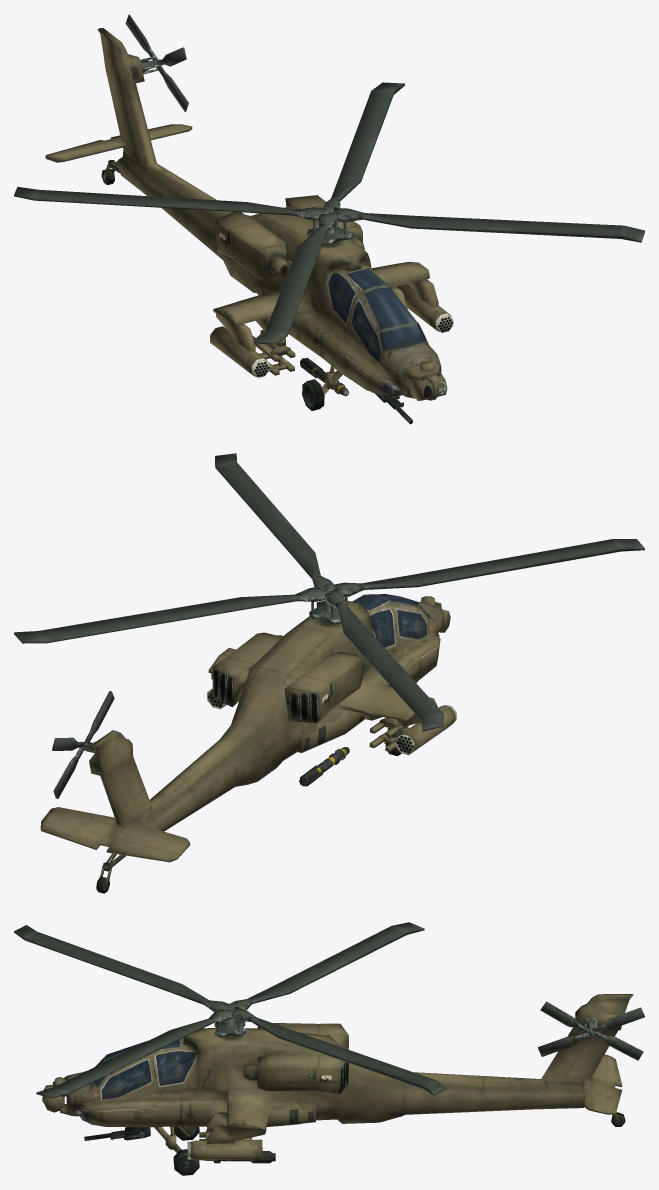
Rendered from gunship.glb.
The picture shows the model from 3 angles, top to bottom: view 1: azimuth 30°, elevation 25°; view 2: azimuth 150°, elevation 25°; view 3: azimuth 270°, elevation 25°; orthographic projection. The views are drawn at different scales.
Visible parts, largest first — view 1: Gunship, Rotor, Back_Rotor; view 2: Gunship, Rotor, Back_Rotor, Hellfire_Missile; view 3: Gunship, Rotor, Back_Rotor.
Part boxes in pixels (x1,y1,x2,y2): Gunship: (45,28,453,424); Rotor: (14,82,644,344); Back_Rotor: (125,14,188,112); Gunship: (40,594,456,893); Rotor: (14,453,644,731); Back_Rotor: (52,691,114,798); Hellfire_Missile: (299,747,349,786); Gunship: (42,994,633,1175); Rotor: (14,922,446,1098); Back_Rotor: (538,1001,644,1060).
Size of the model in its own units: 12.4 by 5.55 by 18.07.
Materials: 2 (2 with a texture image).
